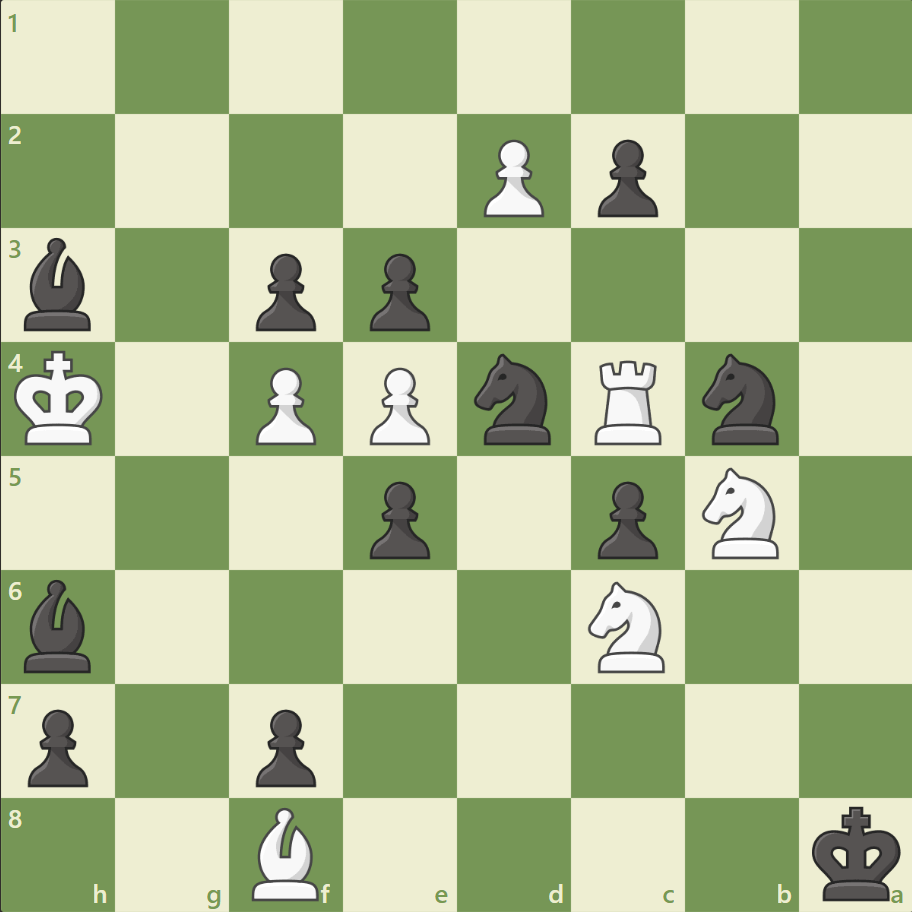B: (244, 801, 328, 904)
K: (11, 344, 111, 452)
N: (692, 461, 789, 564), (579, 575, 676, 677)
P: (247, 359, 322, 450), (474, 132, 549, 223), (361, 359, 435, 450)
R: (587, 352, 670, 449)
b: (17, 233, 101, 336), (17, 574, 101, 676)
k: (806, 798, 906, 906)
n: (692, 348, 789, 450), (465, 348, 562, 450)
p: (247, 700, 322, 791), (20, 700, 95, 791), (247, 246, 322, 337), (588, 473, 662, 564), (361, 473, 435, 564), (361, 246, 435, 337), (588, 132, 662, 223)
